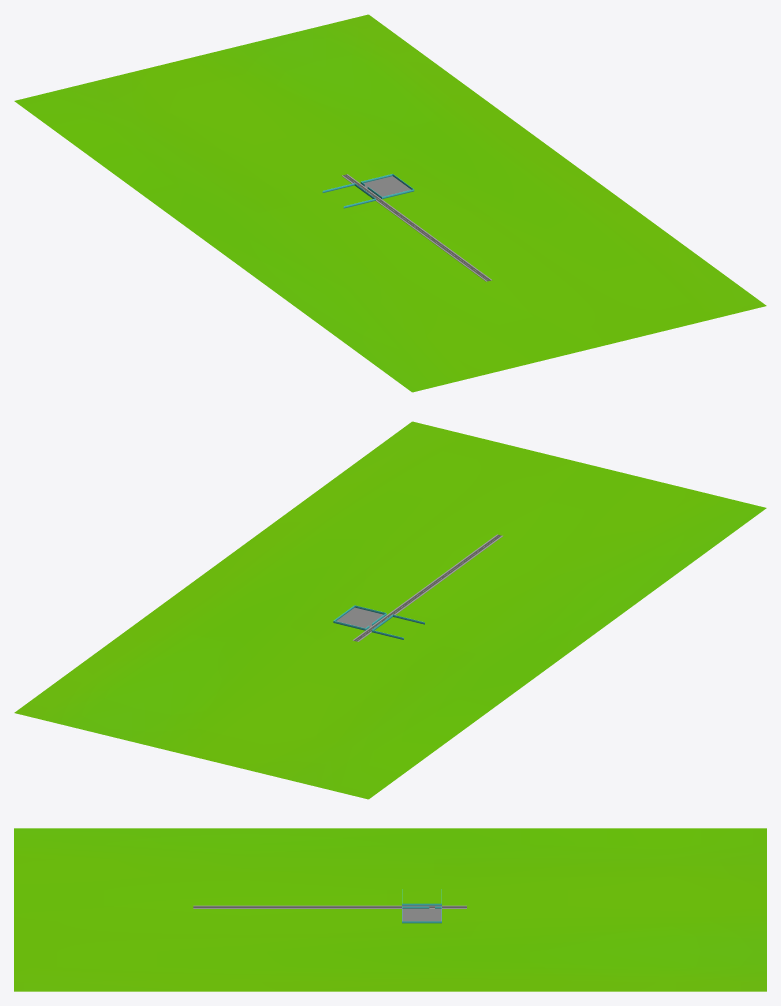
The model's file is Env itr 1.fbx.
3 renders of one model, top to bottom at view 1: azimuth 30°, elevation 25°; view 2: azimuth 150°, elevation 25°; view 3: azimuth 270°, elevation 25°, orthographic. The views are drawn at different scales.
Parts seen in each view (by area): view 1: Plane, Road; view 2: Plane, Road; view 3: Plane, Road, floor, Wall.
Part boxes in pixels (x1,y1,x2,y2): Plane: [14, 14, 766, 392]; Road: [342, 174, 492, 281]; Plane: [14, 421, 766, 799]; Road: [352, 534, 502, 641]; Plane: [14, 828, 766, 991]; Road: [193, 905, 466, 908]; floor: [402, 908, 441, 921]; Wall: [402, 889, 441, 923].
Bounding box in the file's own units: 14693 × 144 × 28575.
3 materials, 2 textured.
